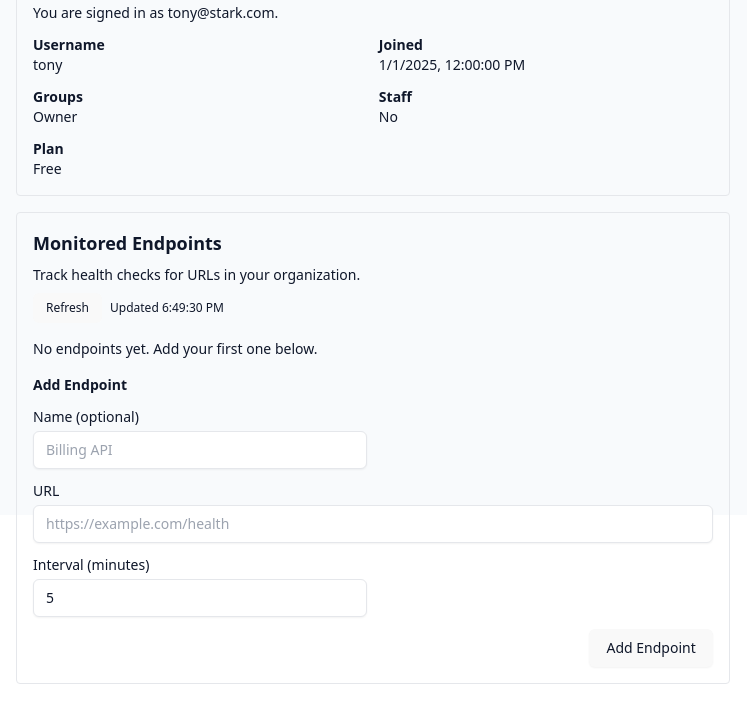
Test case: DashboardPage › shows create error feedback
The width and height of the screenshot is (747, 708).
(page scrolled)
Type "https://example.com/bad" into the field labelled "URL" at (373, 524), box [33, 505, 713, 543]
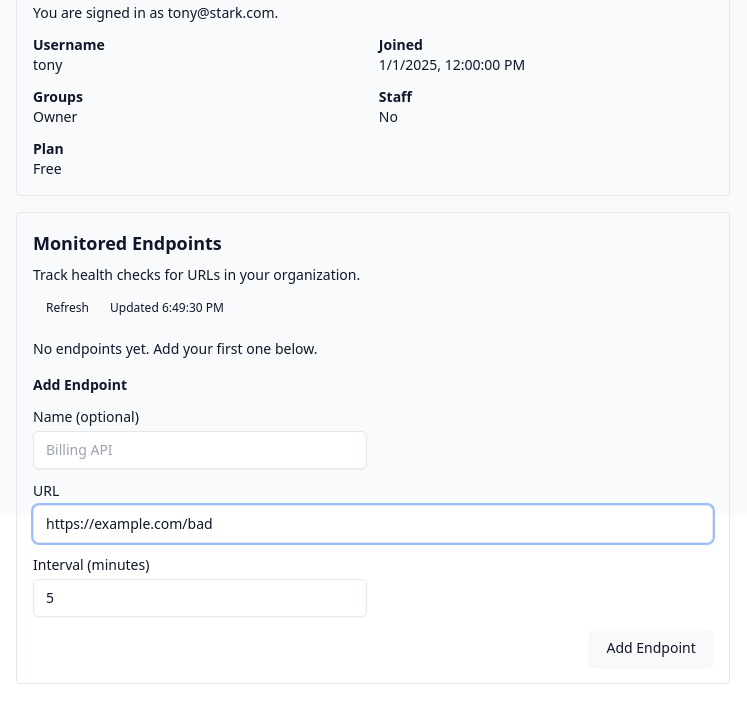
Click the button "Add Endpoint" at (651, 648), box [590, 629, 713, 667]
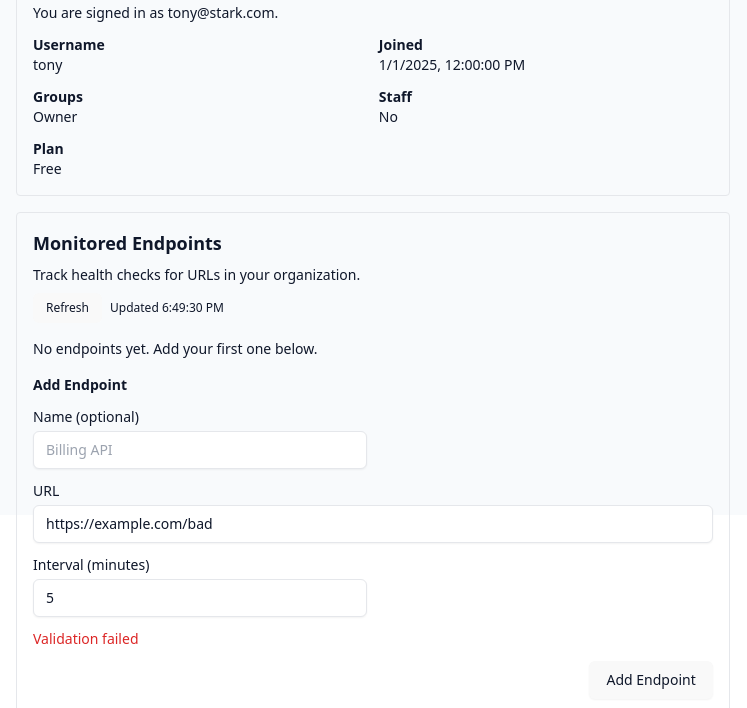
Now the text "Validation failed" is shown, box [33, 629, 138, 648]
